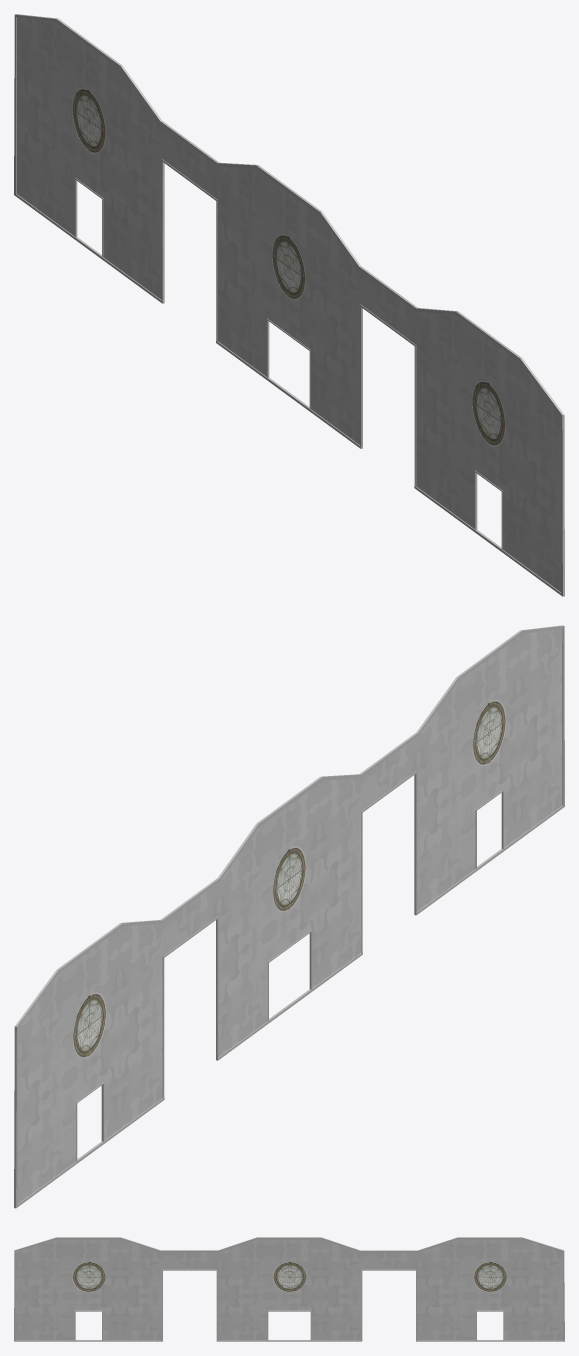
File: Station03WallFront01A.FBX
The picture shows the model from 3 angles, top to bottom: view 1: azimuth 30°, elevation 25°; view 2: azimuth 150°, elevation 25°; view 3: azimuth 270°, elevation 25°; orthographic projection. The views are drawn at different scales.
Visible parts, largest first — view 1: Station03WallFront01A, Station03WallFrontMtlA, Station03WallFCircleA; view 2: Station03WallFront01A, Station03WallFrontMtlA, Station03WallFCircleA; view 3: Station03WallFront01A, Station03WallFrontMtlA, Station03WallFCircleA.
Boxes of the visible parts, x1,y1,x2,y2 form: Station03WallFront01A: (16,17,561,591); Station03WallFrontMtlA: (14,14,564,596); Station03WallFCircleA: (72,88,505,446); Station03WallFront01A: (18,628,562,1203); Station03WallFrontMtlA: (14,625,564,1208); Station03WallFCircleA: (73,700,506,1058); Station03WallFront01A: (15,1239,562,1340); Station03WallFrontMtlA: (14,1237,564,1341); Station03WallFCircleA: (72,1261,506,1292).
Bounding box in the file's own units: 4.48 × 425 × 2044.
